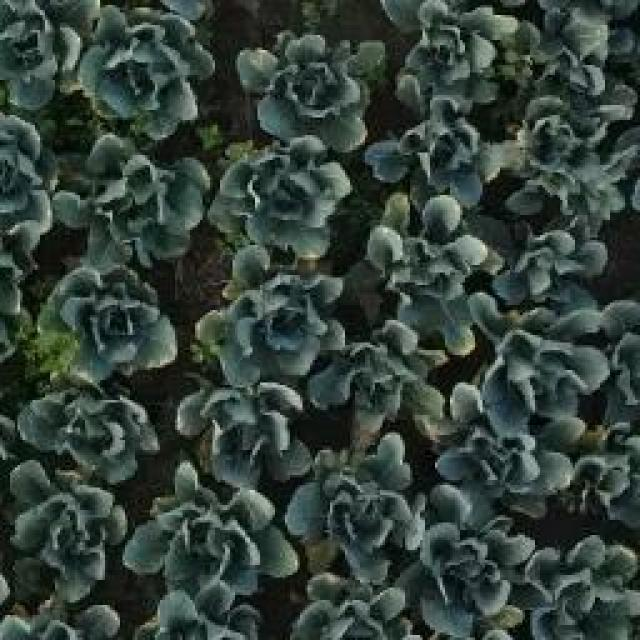cabbage: (361, 187, 496, 348), (129, 471, 301, 597), (53, 136, 208, 264), (430, 385, 573, 523), (497, 85, 640, 219), (75, 2, 214, 135), (199, 254, 342, 381), (234, 21, 380, 145), (288, 439, 421, 575), (210, 137, 354, 260), (34, 255, 178, 377), (1, 464, 130, 595), (403, 515, 535, 640), (314, 324, 444, 448), (474, 322, 610, 440), (15, 374, 162, 482), (177, 375, 312, 482), (373, 99, 506, 206), (386, 0, 517, 105), (521, 532, 640, 640), (502, 208, 617, 312), (0, 0, 84, 110), (292, 570, 418, 640)
